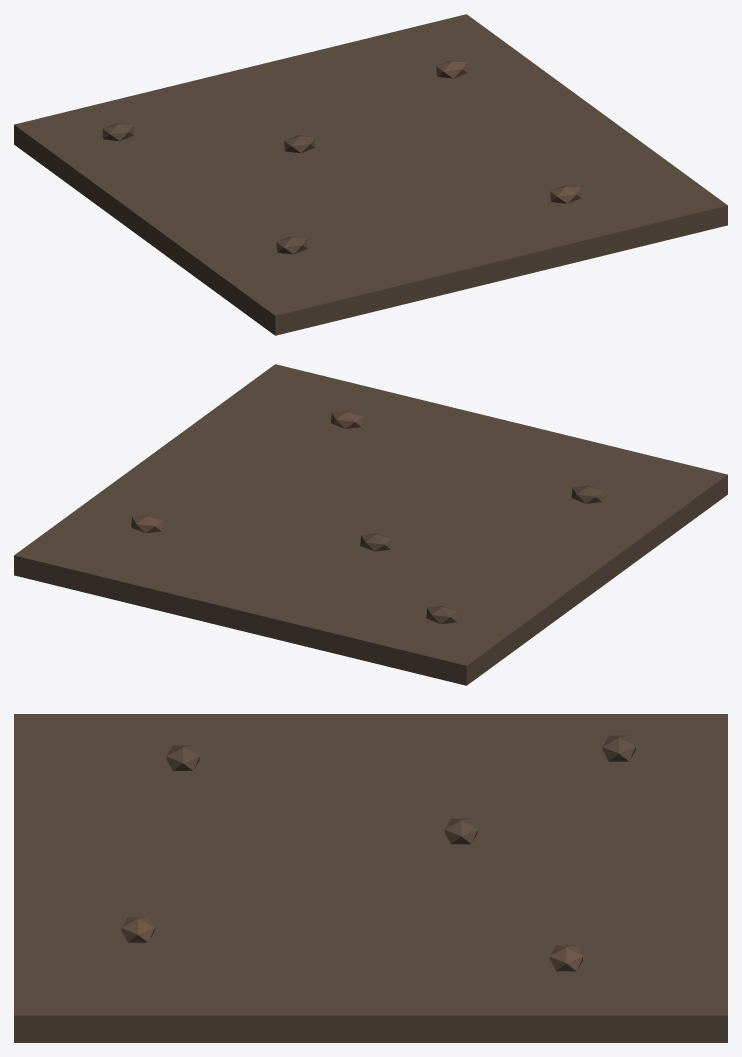
Rendered from ground_soil.glb.
3 renders of one model, top to bottom at view 1: azimuth 30°, elevation 25°; view 2: azimuth 150°, elevation 25°; view 3: azimuth 270°, elevation 25°, orthographic. The views are drawn at different scales.
Visible parts, largest first — view 1: ground_soil soil, ground_soil wood; view 2: ground_soil soil, ground_soil wood; view 3: ground_soil soil, ground_soil wood.
Boxes of the visible parts, x1=… form: ground_soil soil: x1=14, y1=14, x2=727, y2=335; ground_soil wood: x1=436, y1=60, x2=581, y2=203; ground_soil soil: x1=14, y1=364, x2=727, y2=685; ground_soil wood: x1=131, y1=410, x2=362, y2=533; ground_soil soil: x1=14, y1=714, x2=727, y2=1042; ground_soil wood: x1=121, y1=917, x2=582, y2=971.
Size of the model in its own units: 0.95 by 0.068 by 0.95.
